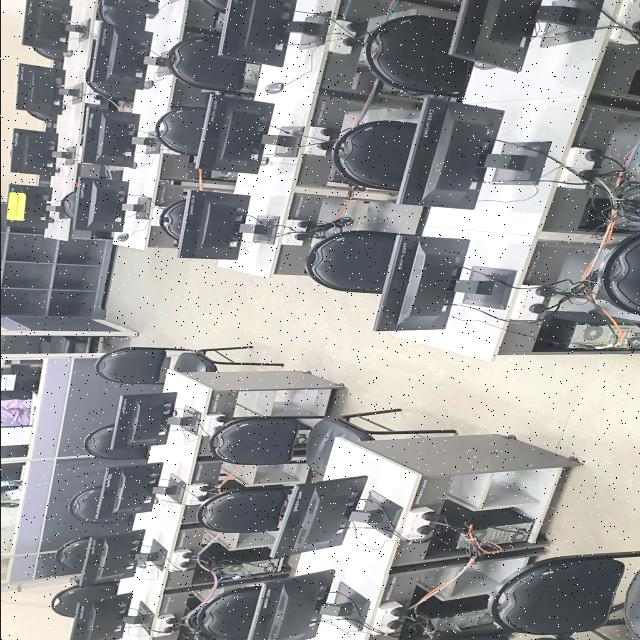Chair: (208, 409, 454, 475), (488, 551, 640, 640), (364, 15, 471, 98), (95, 346, 282, 384), (330, 120, 416, 192), (305, 231, 399, 294), (162, 37, 259, 95), (196, 485, 291, 533), (598, 232, 640, 316), (197, 587, 258, 640), (154, 106, 205, 157), (51, 581, 117, 617), (82, 425, 148, 460), (68, 486, 129, 523), (0, 335, 103, 354), (427, 625, 512, 640), (54, 537, 88, 571), (159, 198, 184, 241), (54, 191, 75, 219), (199, 0, 226, 14)
Cpu: (565, 321, 640, 350), (430, 609, 491, 632), (474, 521, 532, 544), (613, 183, 640, 230), (219, 559, 282, 578), (455, 535, 468, 549)
Monitor: (506, 0, 640, 149), (398, 98, 531, 210), (448, 0, 580, 72), (373, 235, 468, 331), (274, 476, 366, 556), (194, 95, 273, 174), (247, 570, 334, 640), (218, 0, 296, 68), (107, 392, 192, 453), (176, 191, 249, 260), (81, 107, 154, 168), (90, 23, 151, 90), (92, 463, 162, 520), (78, 530, 144, 586), (69, 593, 141, 640), (72, 178, 128, 232), (14, 64, 61, 114), (21, 0, 66, 50), (9, 129, 56, 176), (6, 185, 49, 229), (102, 0, 156, 15)
Mouse: (264, 82, 282, 94), (142, 80, 153, 90)
